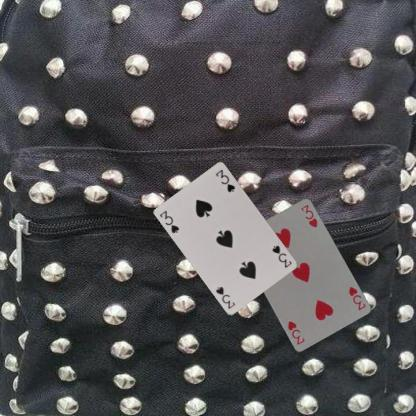3h: (346, 284, 367, 311)
3s: (157, 208, 181, 235), (270, 243, 293, 269)
